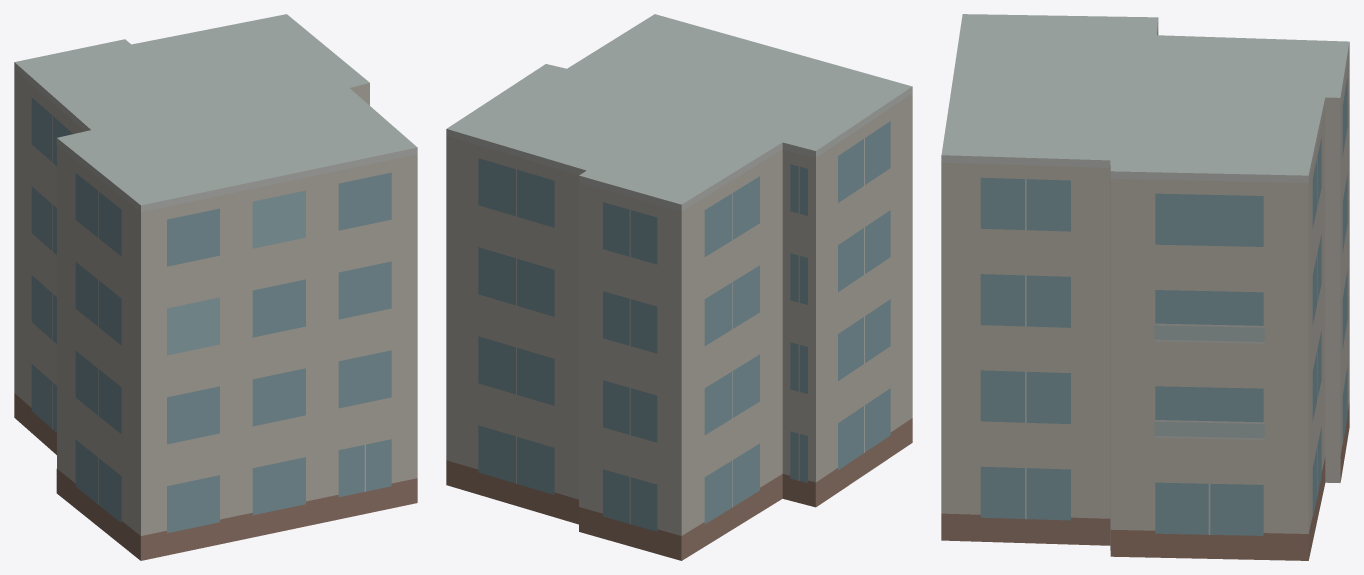
The model's file is survey-upis-32694790.glb.
The picture shows the model from 3 angles, left to right: view 1: azimuth 30°, elevation 25°; view 2: azimuth 150°, elevation 25°; view 3: azimuth 270°, elevation 25°; orthographic projection. The views are drawn at different scales.
Parts seen in each view (by area): view 1: survey-upis-32694790.tmp; view 2: survey-upis-32694790.tmp; view 3: survey-upis-32694790.tmp.
Part boxes in pixels (x1,y1,x2,y2): survey-upis-32694790.tmp: (14,14,417,560); survey-upis-32694790.tmp: (446,14,912,560); survey-upis-32694790.tmp: (941,14,1349,560).
Bounding box in the file's own units: 11.52 × 12.8 × 12.3.
